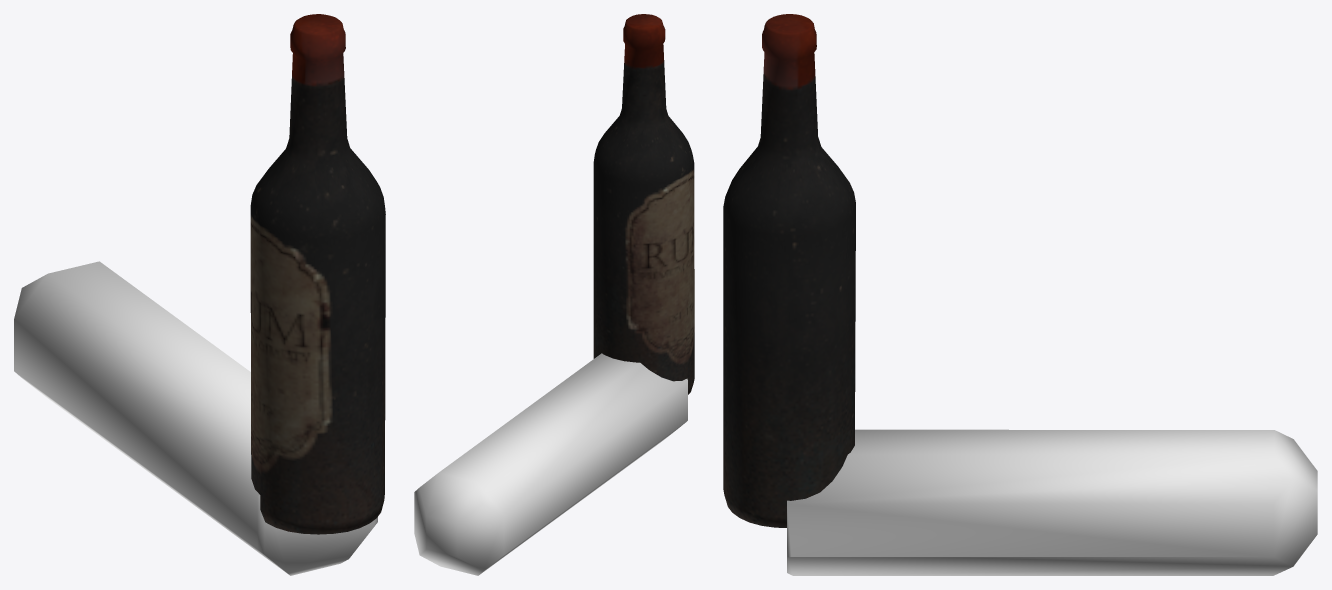
The model's file is SM_Bottle_B.fbx.
3 views of the same model, side by side, from view 1: azimuth 30°, elevation 25°; view 2: azimuth 150°, elevation 25°; view 3: azimuth 270°, elevation 25° (orthographic). The views are drawn at different scales.
Visible parts, largest first — view 1: SM_Bottle_B, SM_Bottle_B_ConvexHulls; view 2: SM_Bottle_B_ConvexHulls, SM_Bottle_B; view 3: SM_Bottle_B_ConvexHulls, SM_Bottle_B.
Part boxes in pixels (box(x1,y1,x2,y2)): SM_Bottle_B: box(250, 14, 385, 534); SM_Bottle_B_ConvexHulls: box(14, 261, 377, 575); SM_Bottle_B_ConvexHulls: box(414, 353, 687, 575); SM_Bottle_B: box(593, 14, 694, 394); SM_Bottle_B_ConvexHulls: box(787, 429, 1317, 575); SM_Bottle_B: box(723, 14, 855, 527).
Size of the model in its own units: 0.1032 by 0.4564 by 0.4546.
